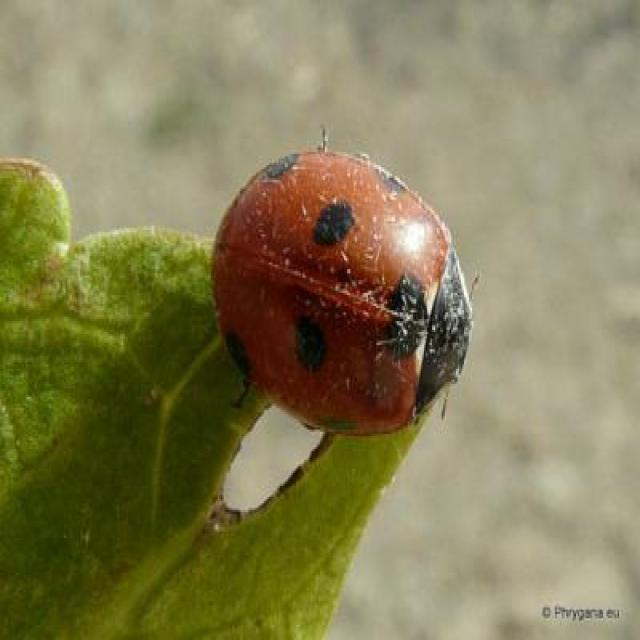antennae: (467, 258, 486, 310), (438, 380, 455, 425)
body: (206, 147, 475, 439)
insect: (209, 147, 473, 440)
wings: (210, 153, 452, 426)
